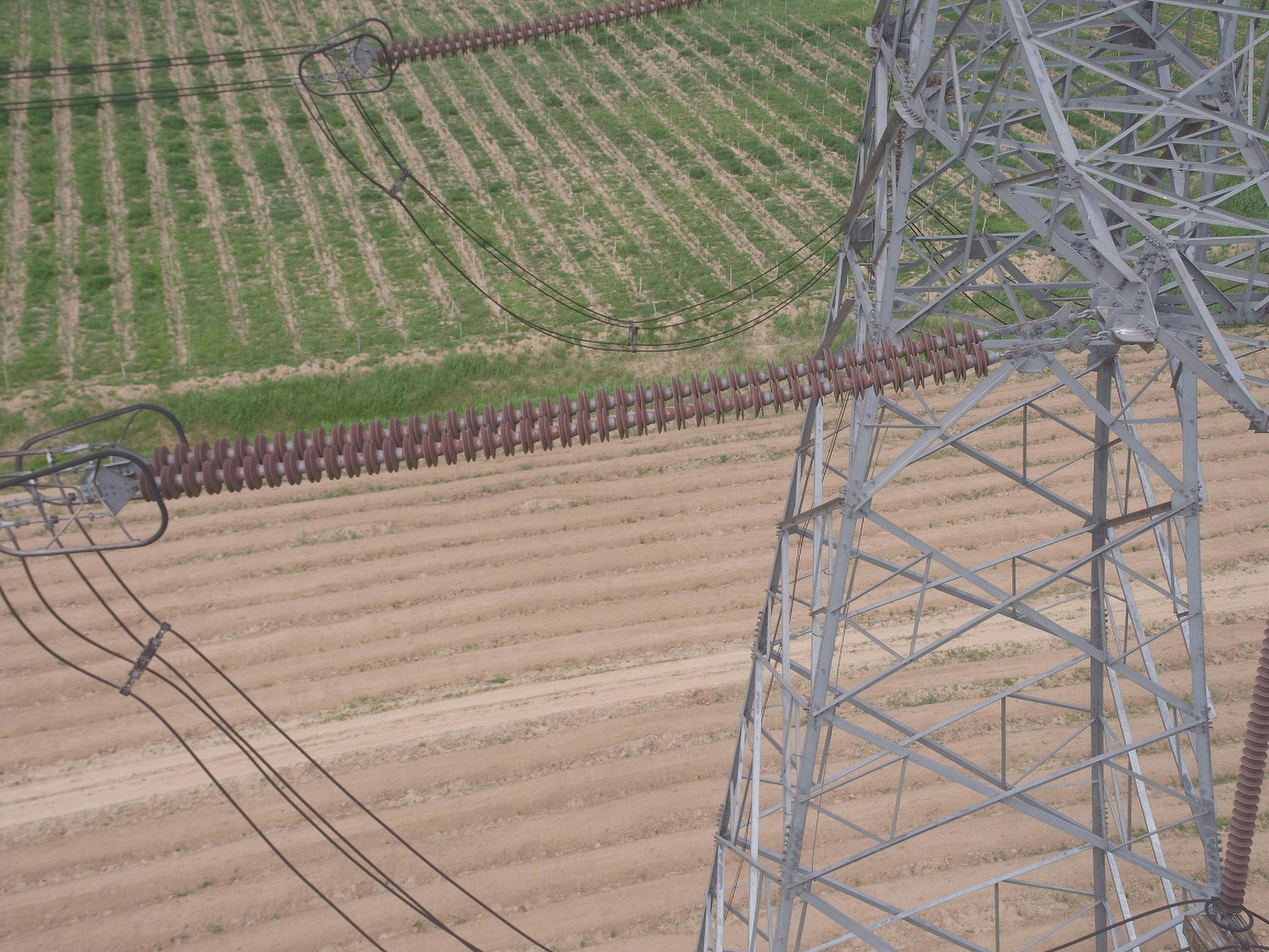insulator: (132, 317, 995, 505), (373, 1, 694, 73), (1214, 610, 1269, 914)
